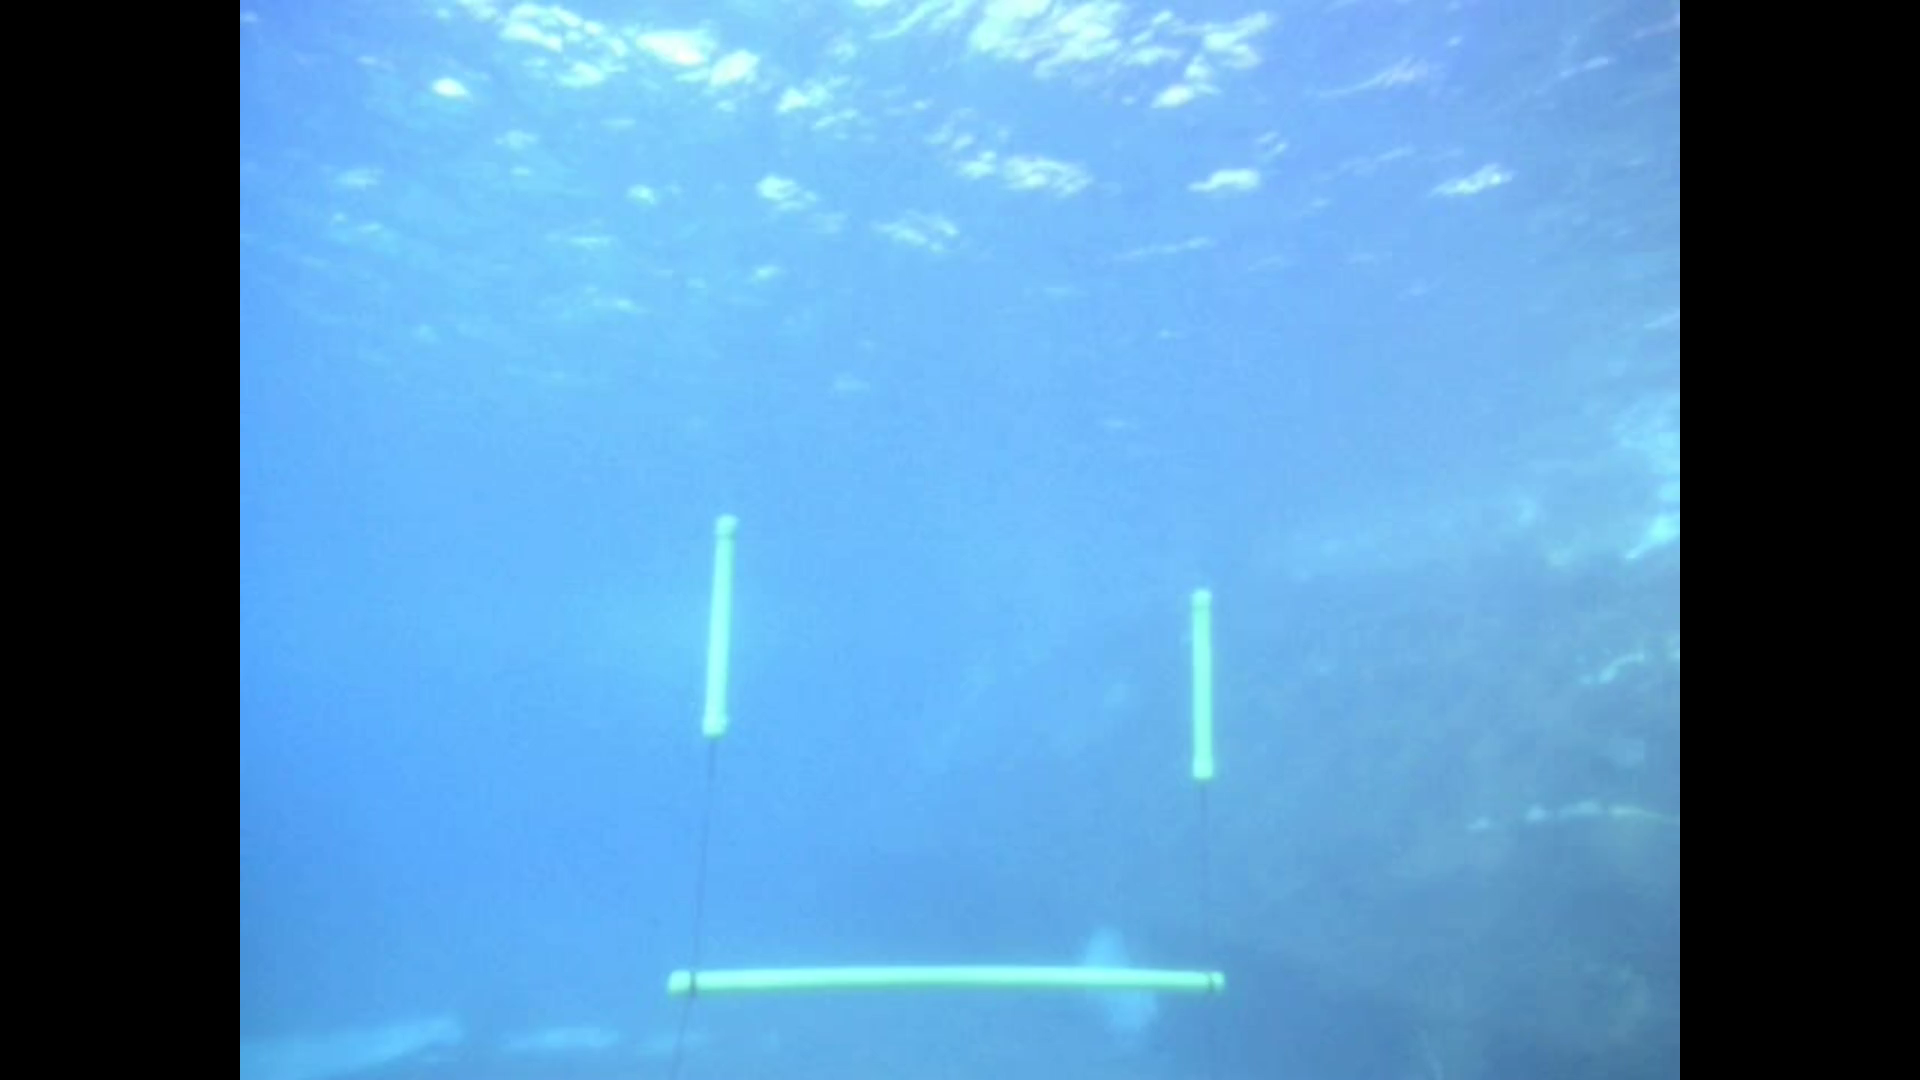gate: (667, 510, 1236, 996)
